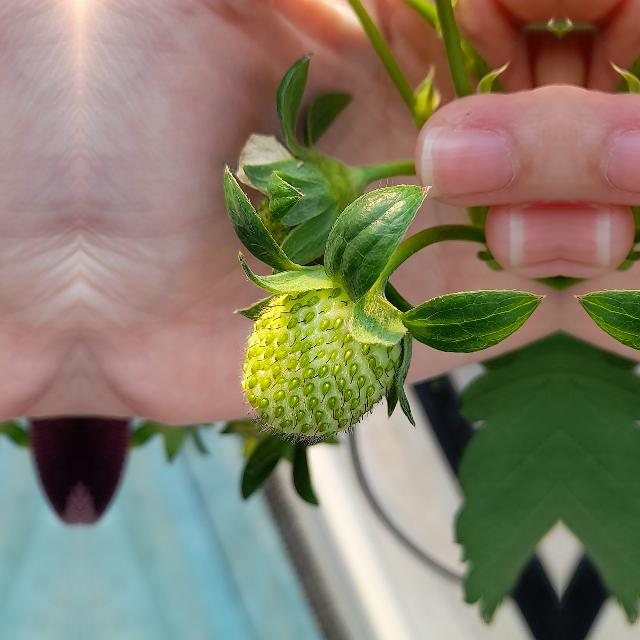Health_25: (237, 283, 403, 445)
